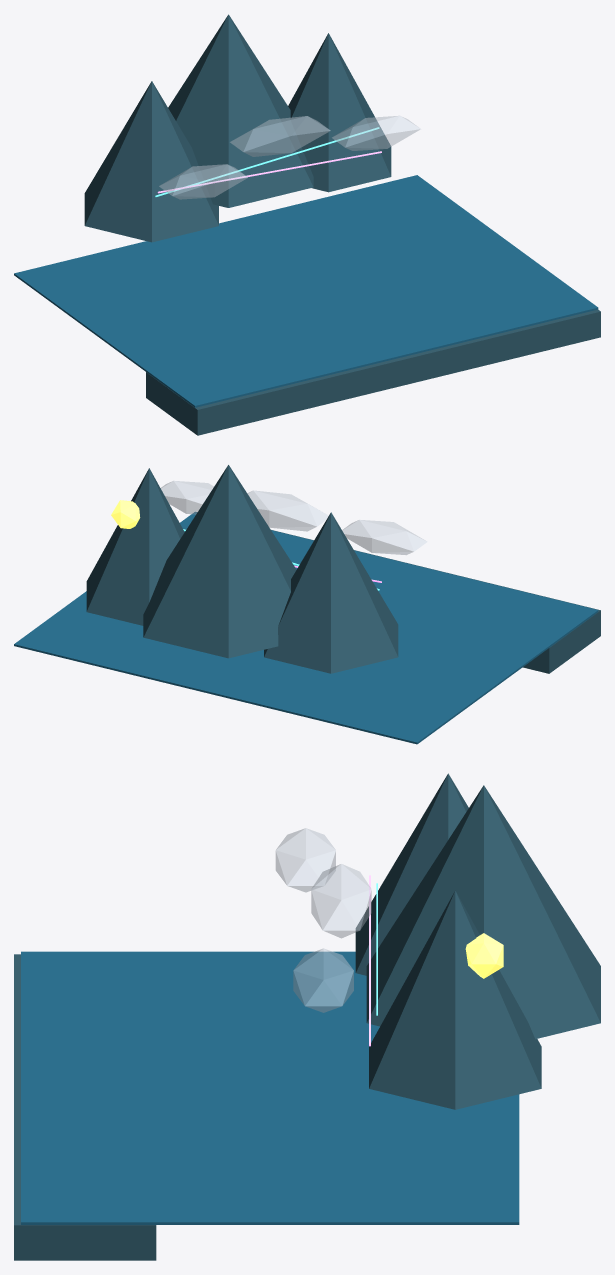
The model's file is atmos_scene.glb.
3 renders of one model, top to bottom at view 1: azimuth 30°, elevation 25°; view 2: azimuth 150°, elevation 25°; view 3: azimuth 270°, elevation 25°, orthographic. The views are drawn at different scales.
Parts seen in each view (by area): view 1: Water, Mountain1, Foreground, Mountain0, Mountain2, Cloud1, Cloud2, Cloud0; view 2: Water, Mountain1, Mountain0, Mountain2, Cloud1, Foreground, Cloud0, Cloud2, Sun; view 3: Water, Mountain1, Mountain2, Foreground, Mountain0, Cloud1, Cloud2, Cloud0, Sun.
Part boxes in pixels (x1,y1,x2,y2): Water: [14, 175, 598, 407]; Mountain1: [168, 14, 313, 207]; Foreground: [146, 309, 600, 435]; Mountain0: [84, 81, 218, 242]; Mountain2: [288, 33, 391, 192]; Cloud1: [230, 116, 330, 156]; Cloud2: [332, 115, 420, 150]; Cloud0: [159, 164, 247, 199]; Water: [14, 512, 598, 744]; Mountain1: [143, 465, 296, 658]; Mountain0: [264, 512, 398, 673]; Mountain2: [86, 468, 184, 625]; Cloud1: [247, 490, 328, 531]; Foreground: [271, 530, 600, 673]; Cloud0: [342, 520, 427, 554]; Cloud2: [161, 481, 213, 514]; Sun: [111, 500, 140, 528]; Water: [21, 951, 519, 1224]; Mountain1: [366, 785, 600, 1039]; Mountain2: [369, 890, 541, 1109]; Foreground: [14, 954, 156, 1260]; Mountain0: [355, 773, 468, 975]; Cloud1: [311, 864, 371, 938]; Cloud2: [293, 948, 353, 1012]; Cloud0: [275, 828, 335, 892]; Sun: [465, 933, 503, 978].
Size of the model in its own units: 18 by 10.55 by 16.49.
